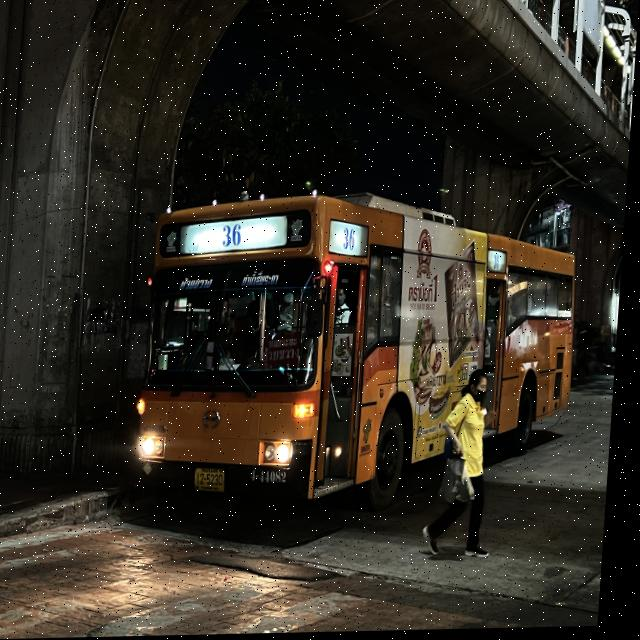BMTA-bus: (117, 172, 595, 539)
Bus Line Number: (219, 222, 253, 250), (341, 224, 362, 256)
Bus Side Number: (252, 465, 298, 491)
Destination Sign: (265, 336, 306, 368)
